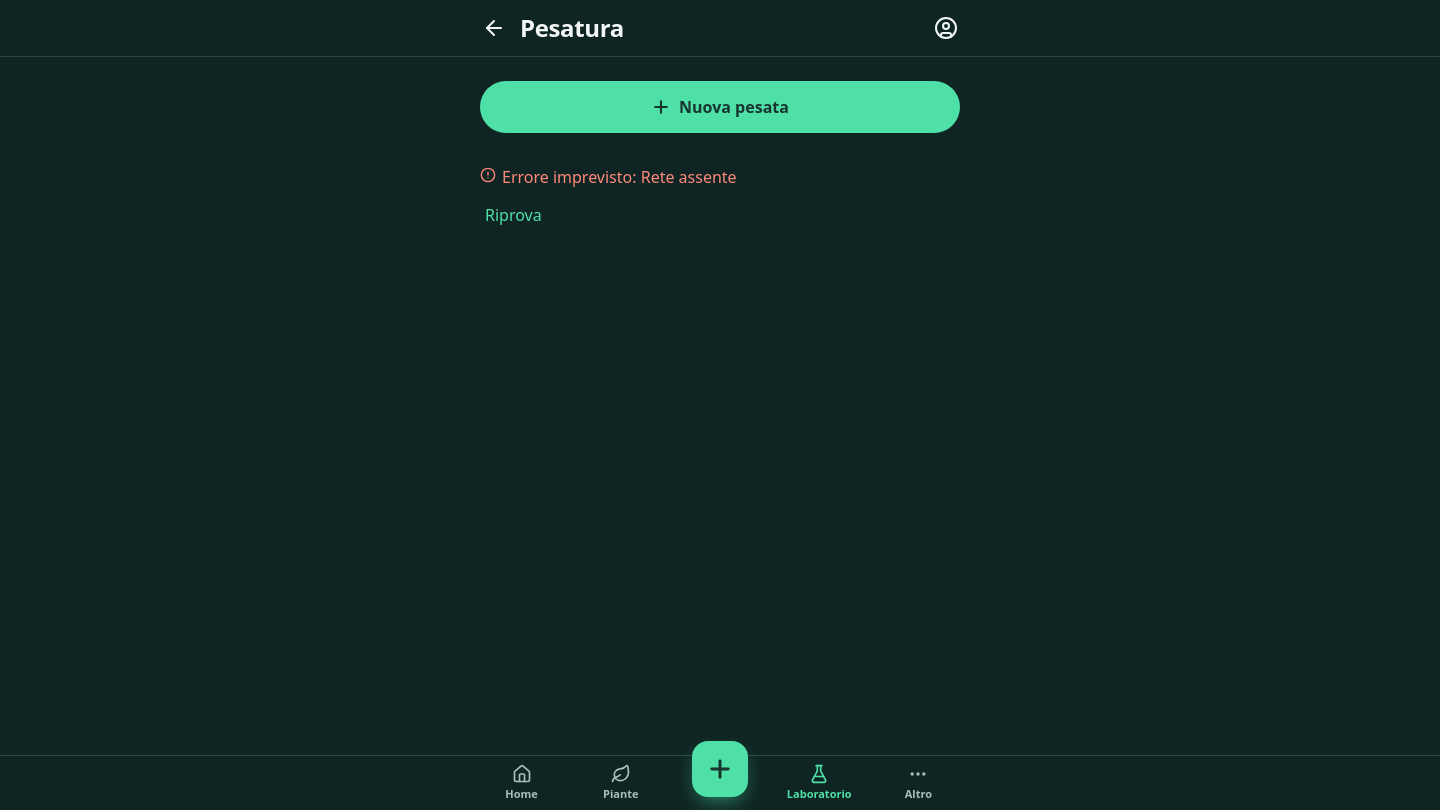
Test: Pesatura › un errore di lettura si può riprovare
What coordinates should you click on to do the following:
click the button "Riprova"
I would click on:
 (513, 215)
Its box is 468,193 -> 559,237.
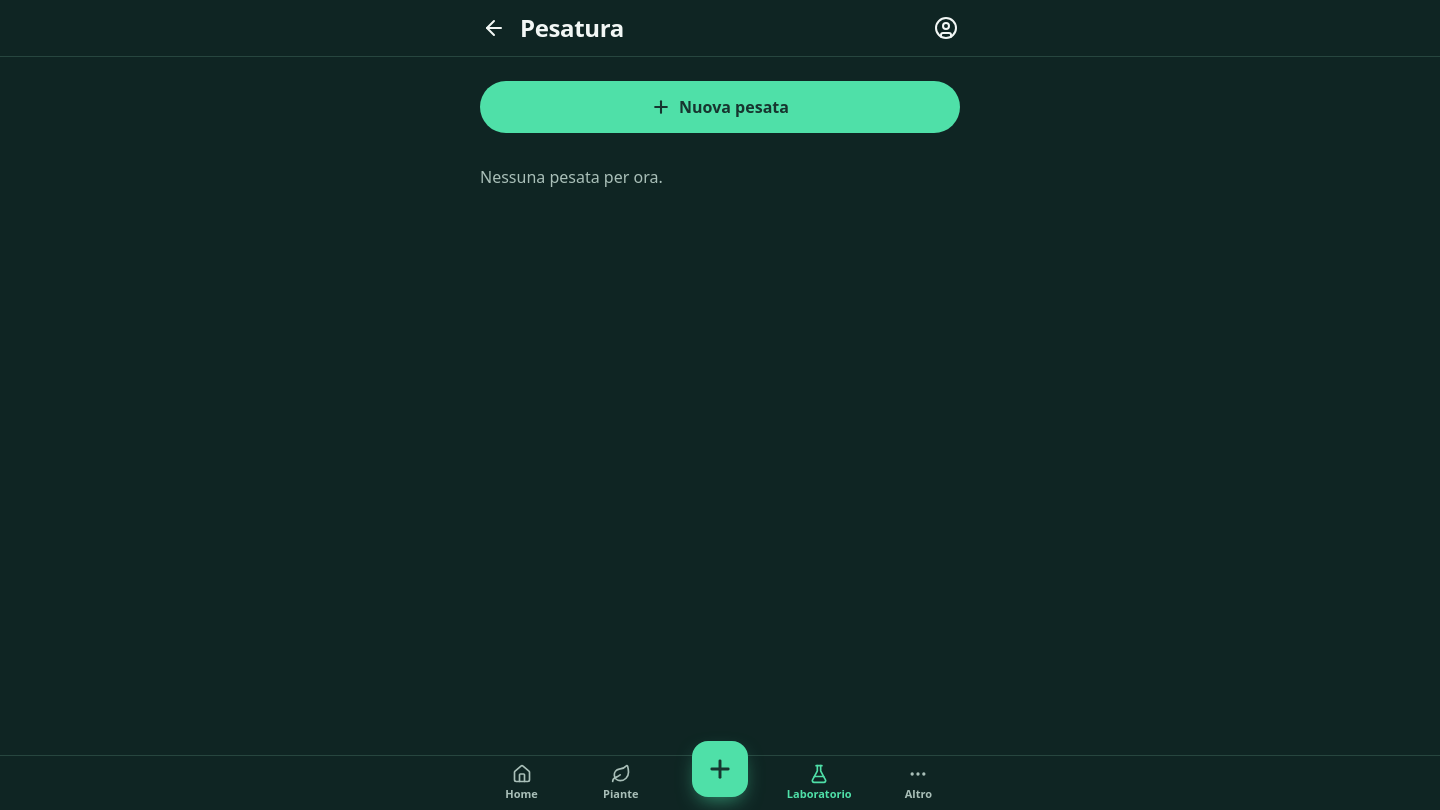
Now the text "Nessuna pesata per ora." is shown, box 480,166 -> 663,188
